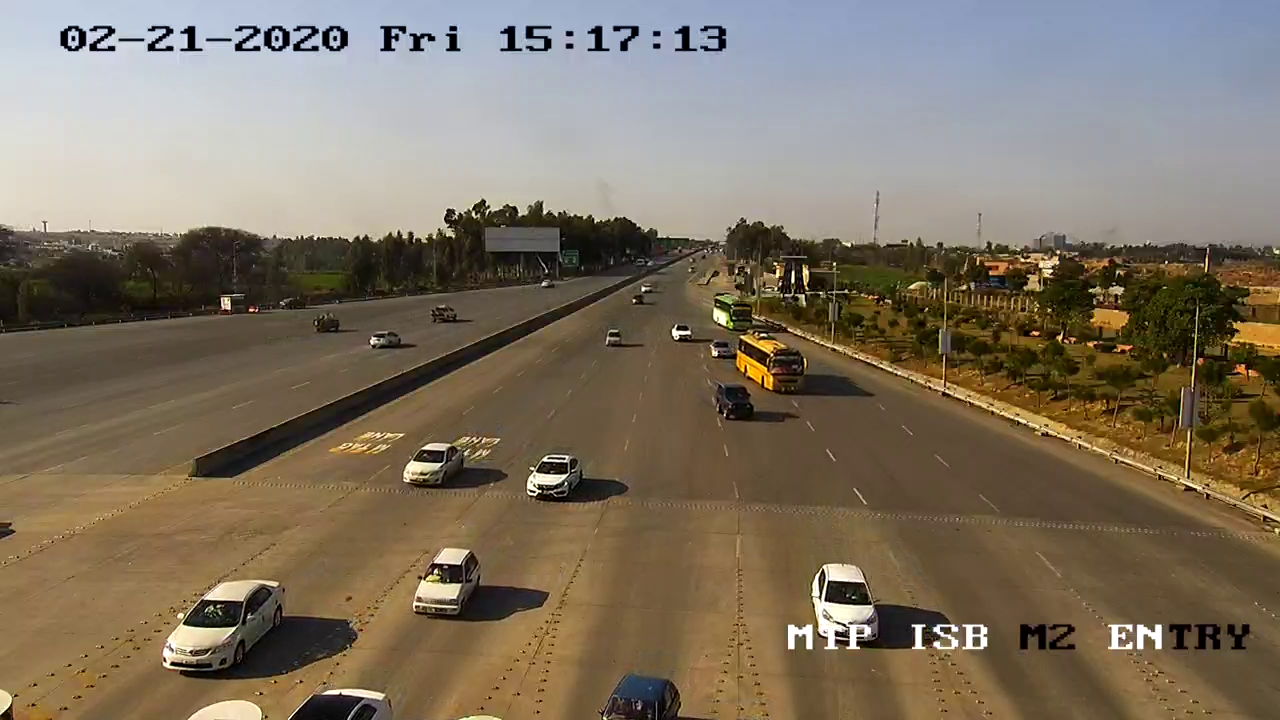f1: (156, 571, 293, 684), (408, 540, 492, 624), (399, 436, 475, 502), (518, 444, 592, 507), (711, 377, 761, 423)
f4: (736, 326, 817, 396)
